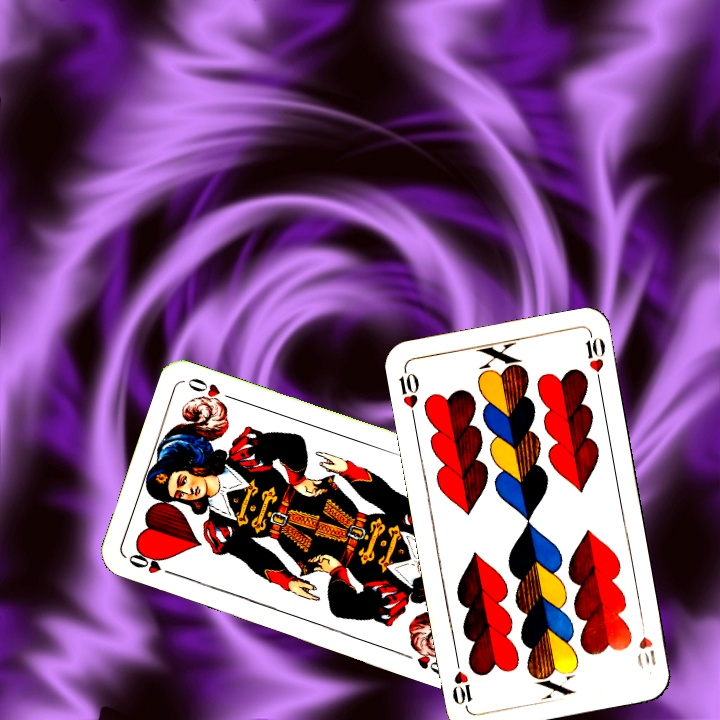H10: (395, 364, 422, 423), (633, 617, 658, 672)
HO: (124, 548, 181, 579)
